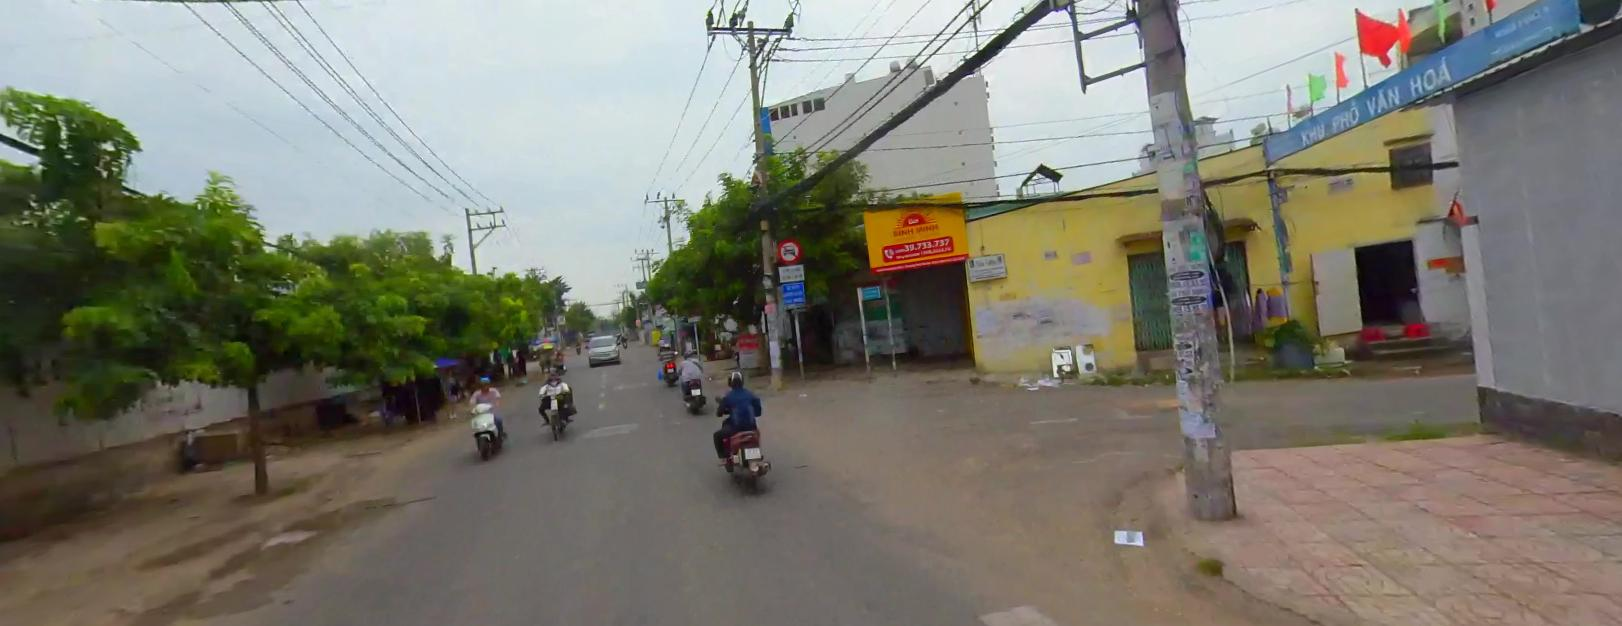Cam con lai: (777, 238, 801, 262)
